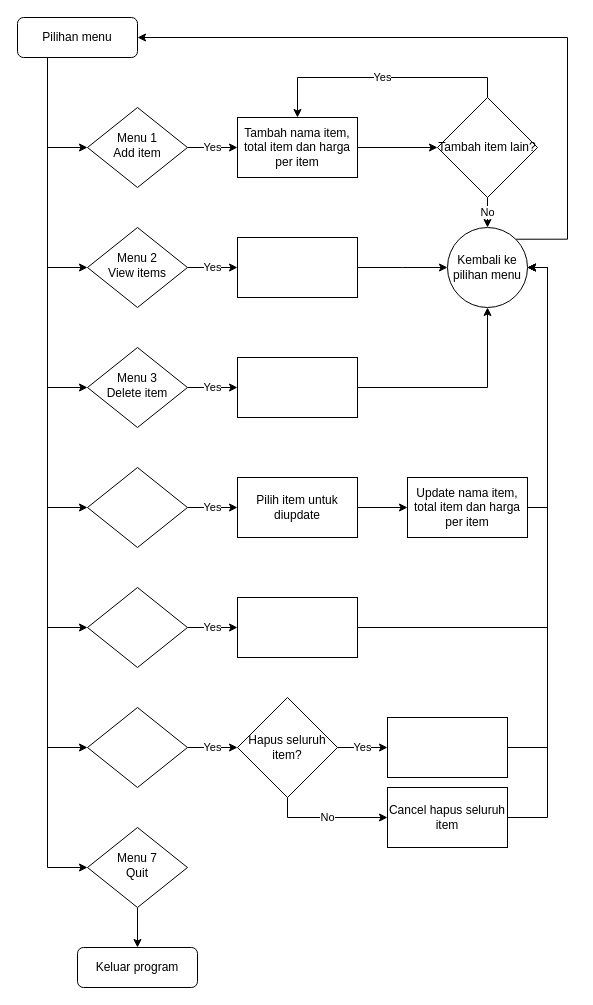
Image size: 593x1005. Some labels were removed from this diagram. The shapes that lost their labels are listed below. From the top down, each one's centre as x and y in pixels, then its label:
(297,267): Tampilkan item, qty dan harga per item
(297,387): Pilih item untuk dihapus
(137,507): Menu 4 Update item
(137,627): Menu 5 Check order
(297,627): Tampilkan item, qty, harga per item serta total harga dan diskon
(137,747): Menu 6 Reset
(447,747): Hapus seluruh item yang sudah diinput
